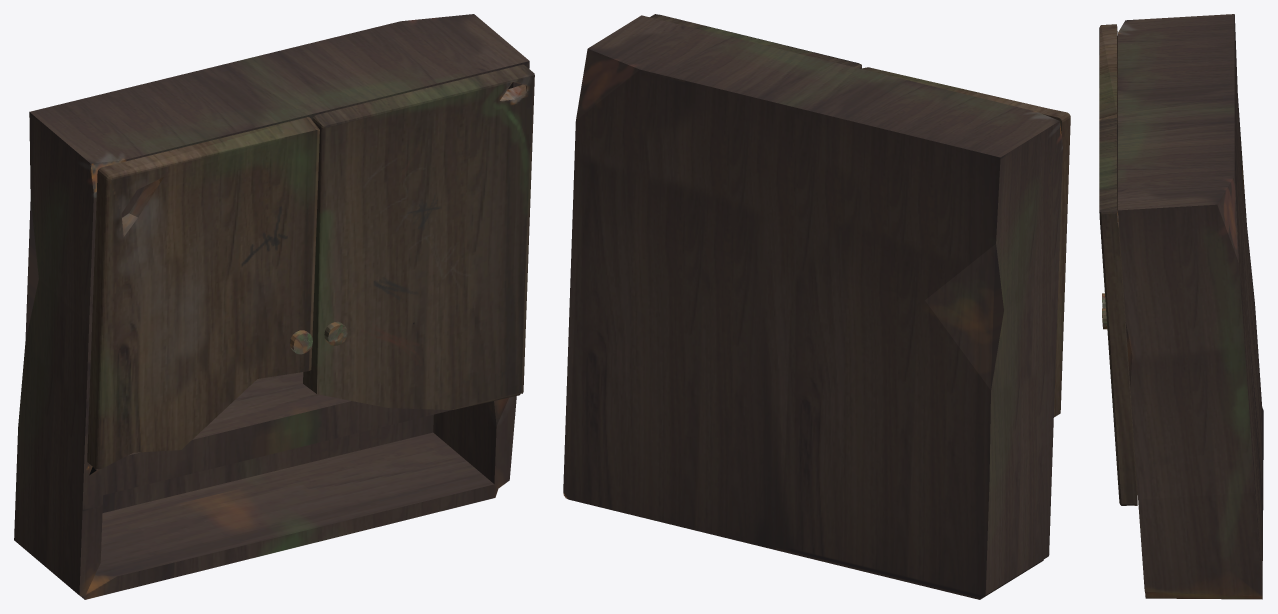
The model's file is Cajonera.fbx.
3 renders of one model, left to right at view 1: azimuth 30°, elevation 25°; view 2: azimuth 150°, elevation 25°; view 3: azimuth 270°, elevation 25°, orthographic. The views are drawn at different scales.
Parts seen in each view (by area): view 1: Cube.015; view 2: Cube.015; view 3: Cube.015.
Part boxes in pixels (bbox=[...]): Cube.015: bbox=[14, 14, 534, 599]; Cube.015: bbox=[563, 14, 1070, 599]; Cube.015: bbox=[1099, 14, 1263, 599].
Size of the model in its own units: 171 by 169 by 62.27.
1 material, 1 textured.
